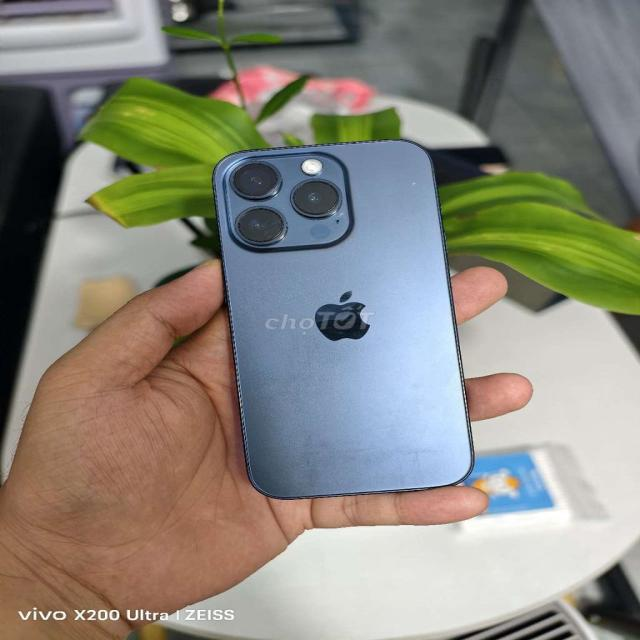gen_15: (203, 131, 483, 516)
scratch: (223, 160, 346, 247), (386, 170, 430, 189)
